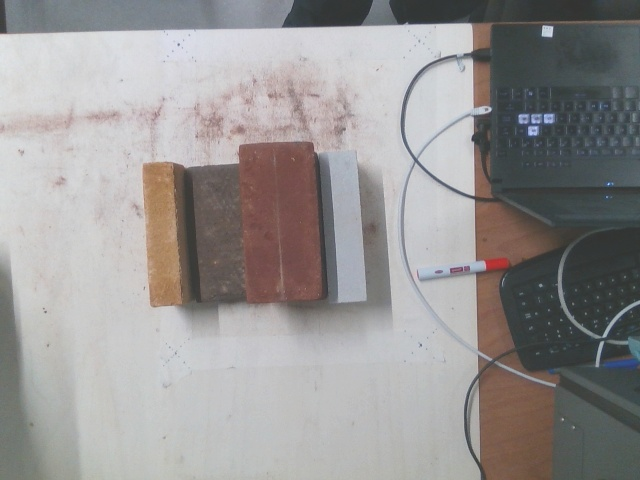brick: (239, 140, 320, 300), (183, 164, 245, 304)
brick-side: (321, 146, 367, 302), (140, 160, 181, 308)
